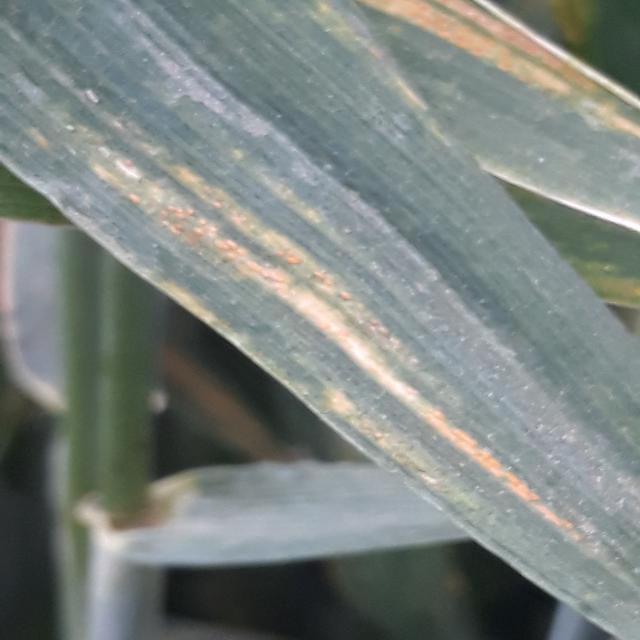yellow_rust: (12, 3, 634, 639)
